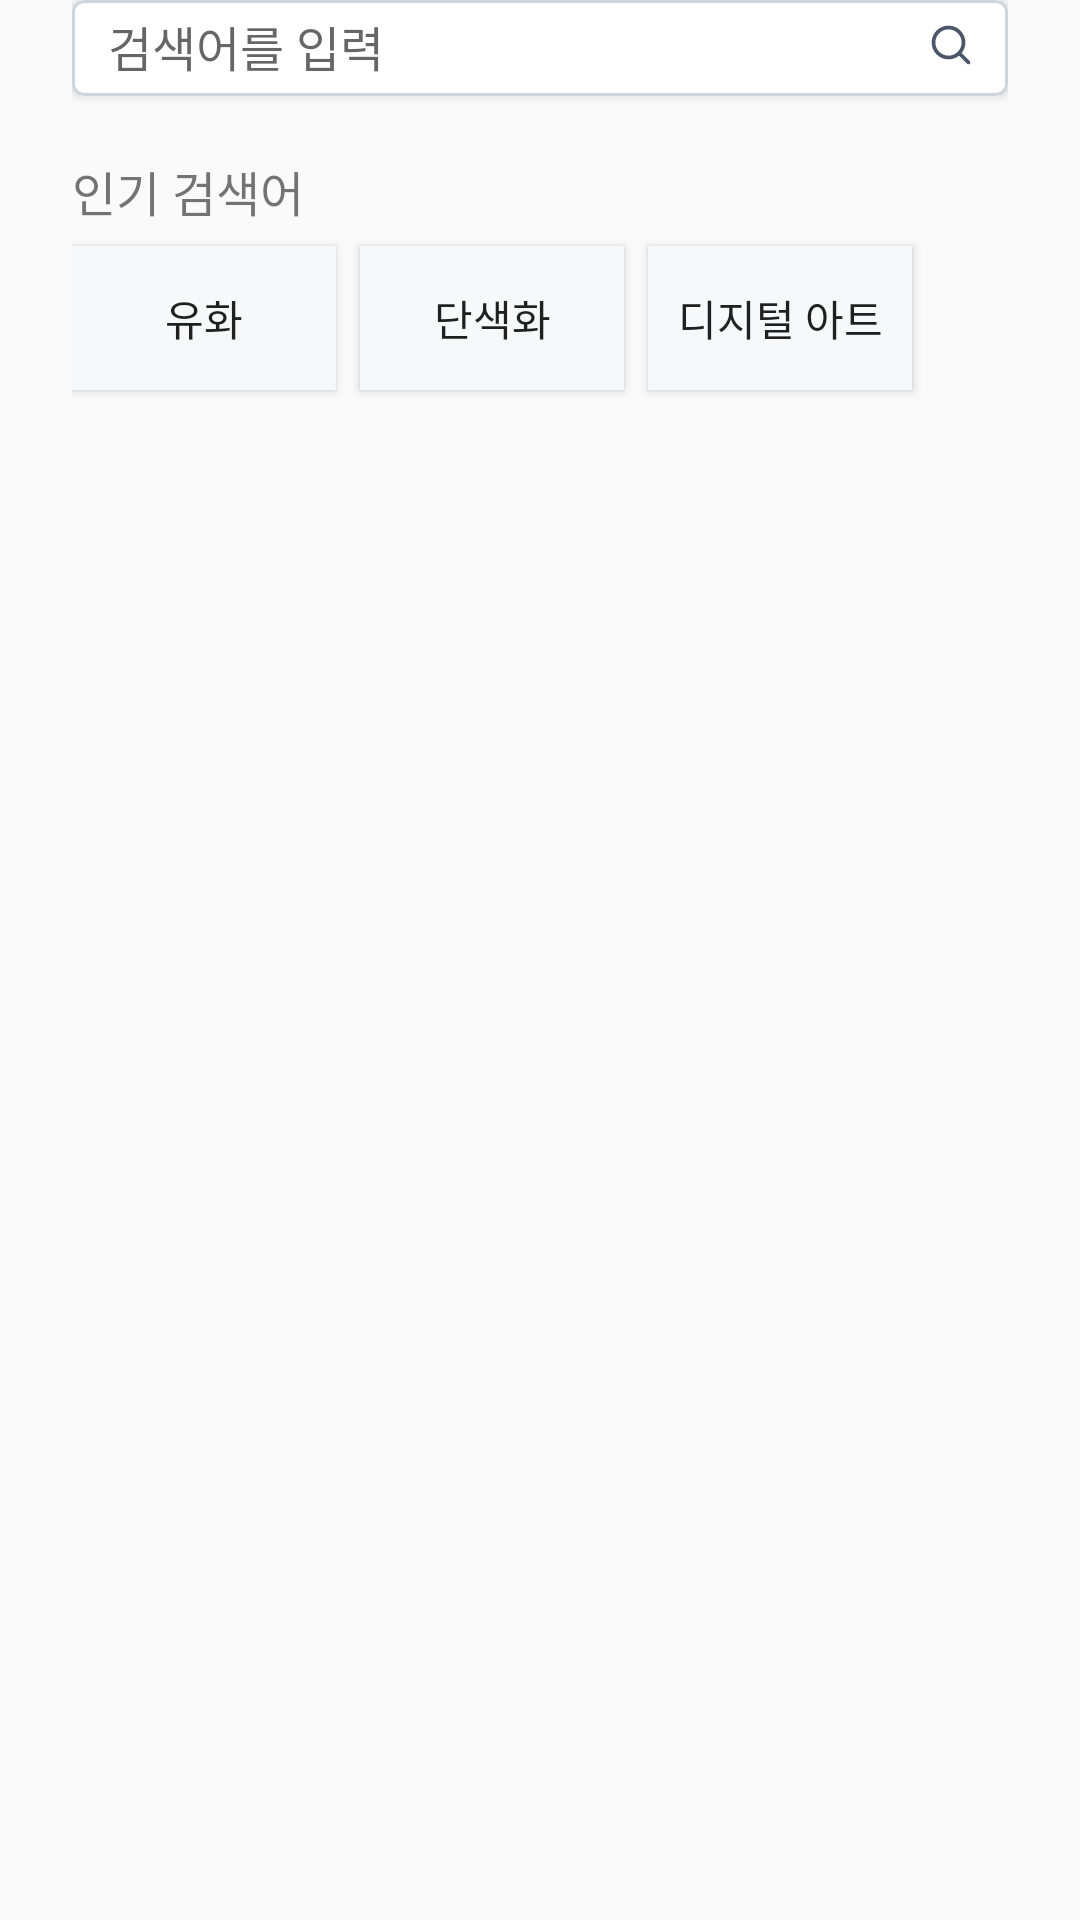

Screen size 1080 × 1920. Icon name, then its center in pixels as (x,y):
search searchbar: (951,45)
